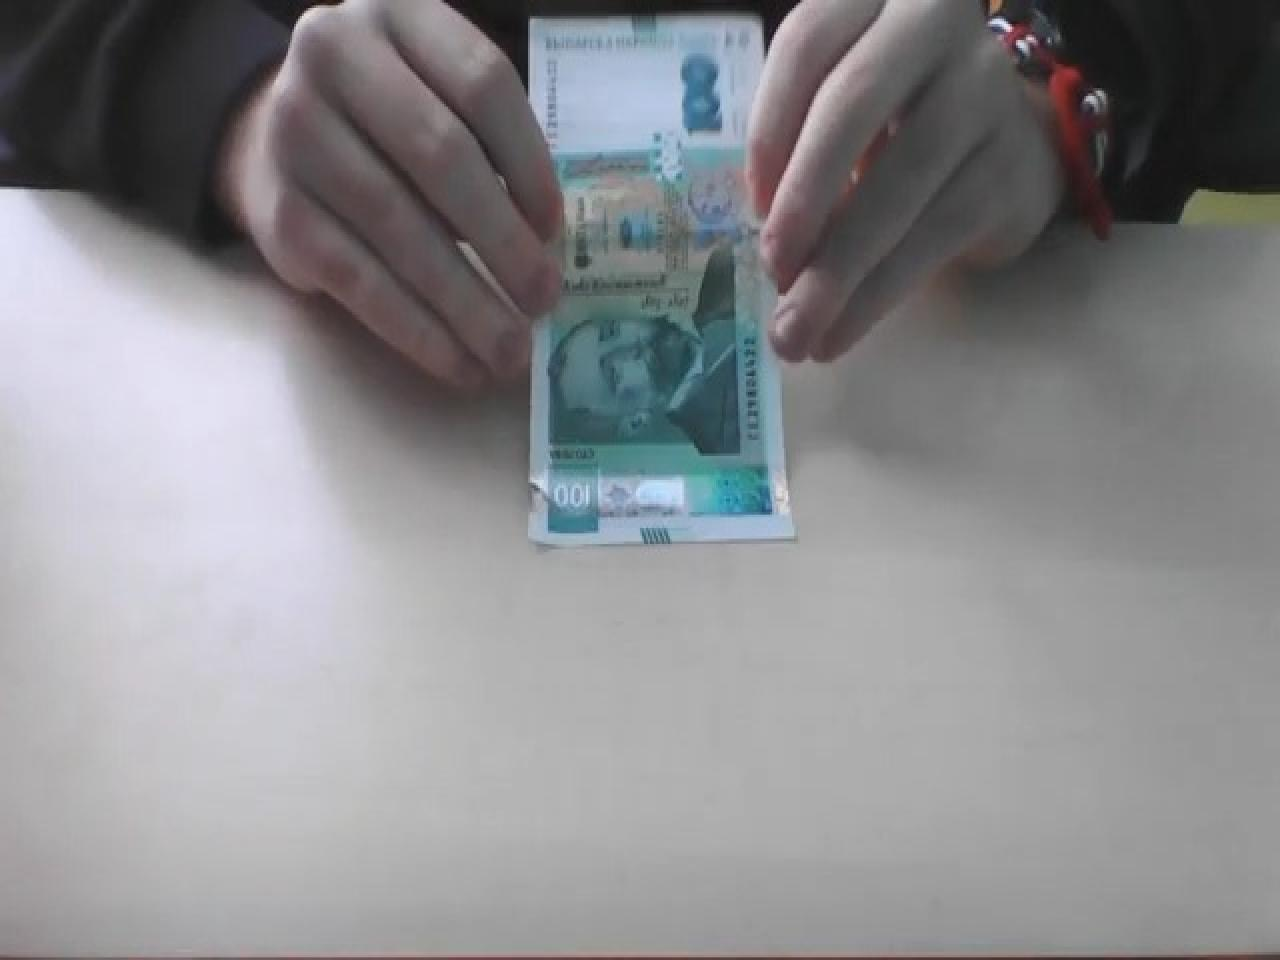100leva: (524, 11, 798, 552)
